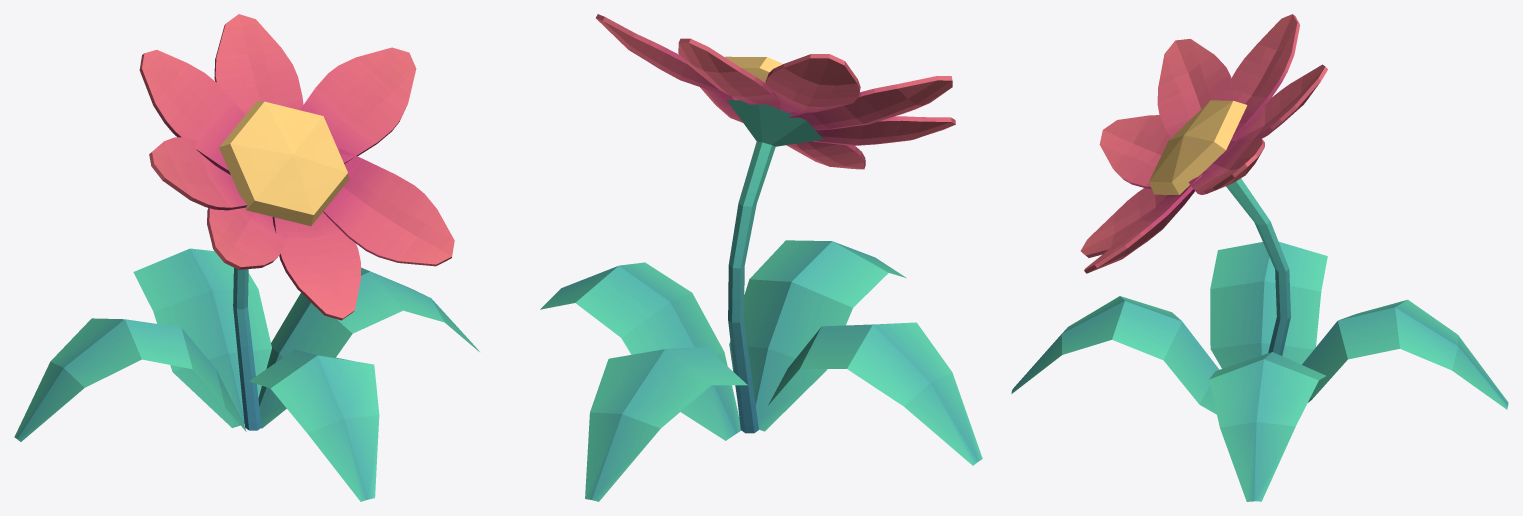
Rendered from red_one_flower_1.gltf.
3 views of the same model, side by side, from view 1: azimuth 30°, elevation 25°; view 2: azimuth 150°, elevation 25°; view 3: azimuth 270°, elevation 25° (orthographic). The views are drawn at different scales.
Parts seen in each view (by area): view 1: Object_15; view 2: Object_15; view 3: Object_15.
Boxes of the visible parts, x1,y1,x2,y2 form: Object_15: (14, 14, 479, 501); Object_15: (540, 14, 982, 501); Object_15: (1011, 14, 1508, 501).
Size of the model in its own units: 2.12 by 1.76 by 2.15.
Materials: 1 (1 with a texture image).
